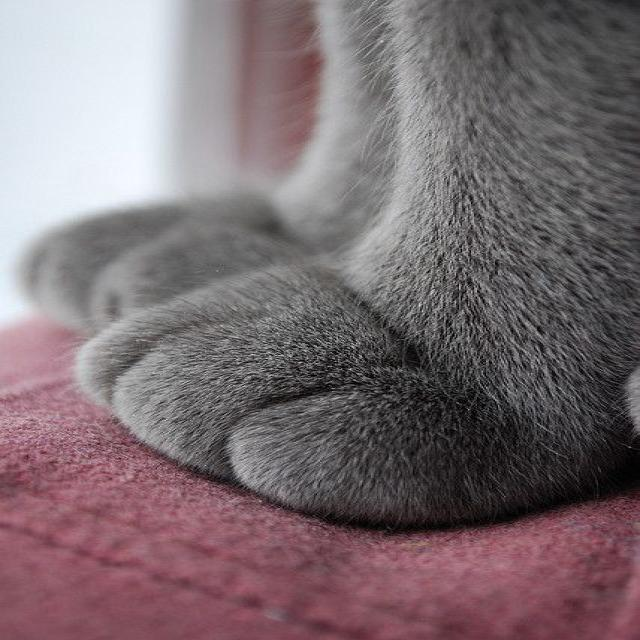Healthy skin: (434, 23, 596, 307), (245, 335, 561, 473), (80, 217, 339, 286)
